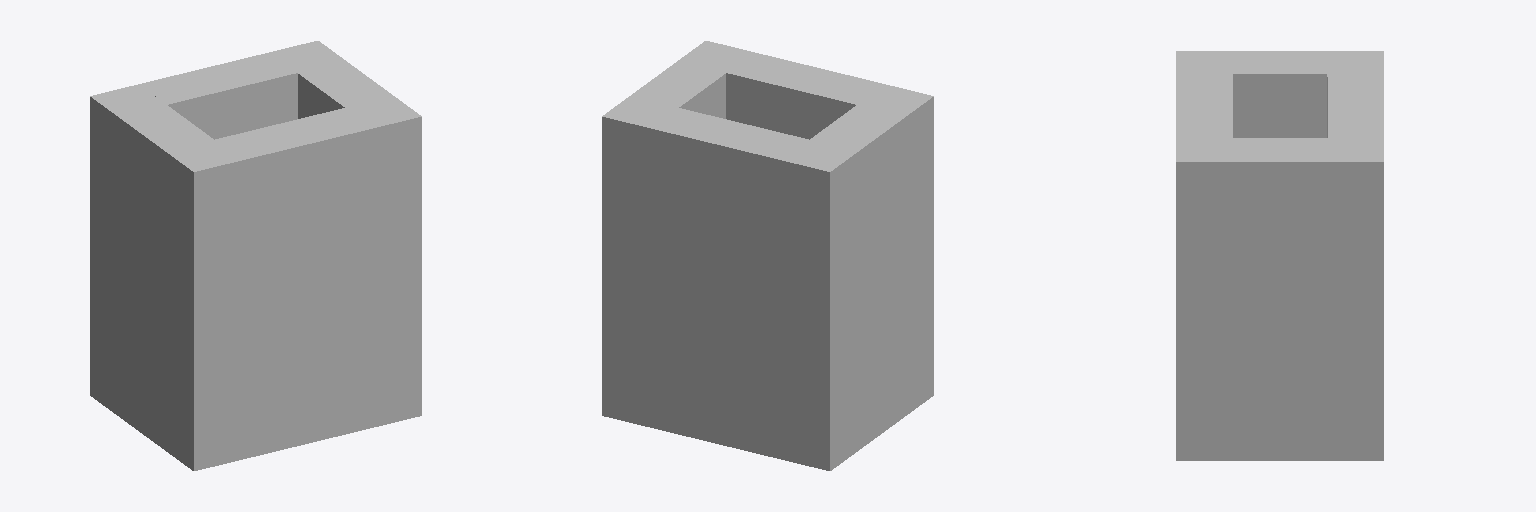
The model's file is komin.obj.
The picture shows the model from 3 angles: view 1: azimuth 30°, elevation 25°; view 2: azimuth 150°, elevation 25°; view 3: azimuth 270°, elevation 25°; orthographic projection.
Visible parts, largest first — view 1: Cube.002; view 2: Cube.002; view 3: Cube.002.
Boxes of the visible parts, x1=… form: Cube.002: x1=90, y1=41, x2=421, y2=470; Cube.002: x1=602, y1=41, x2=933, y2=470; Cube.002: x1=1176, y1=51, x2=1383, y2=460.
Bounding box in the file's own units: 5.04 × 6.31 × 3.98.